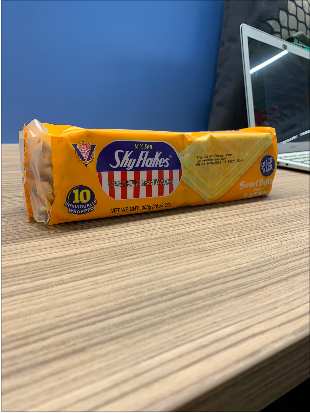Crackers_300-399g: (42, 130, 278, 201)
